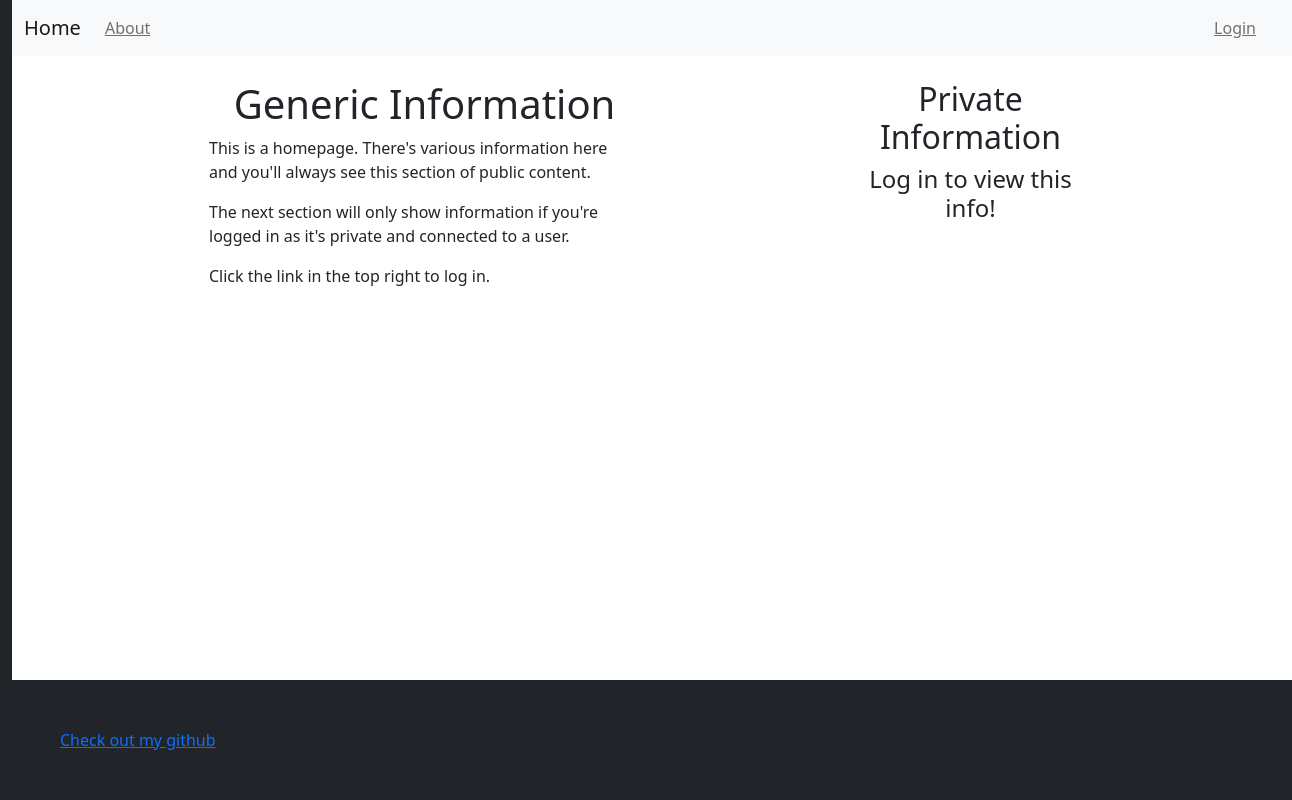
Test: React Router Navigation › navigates from root to about page
Expected: the heading "Generic Information" is shown, [209, 80, 640, 128]
Click the link "About". click: [128, 28]
box: [105, 17, 150, 39]
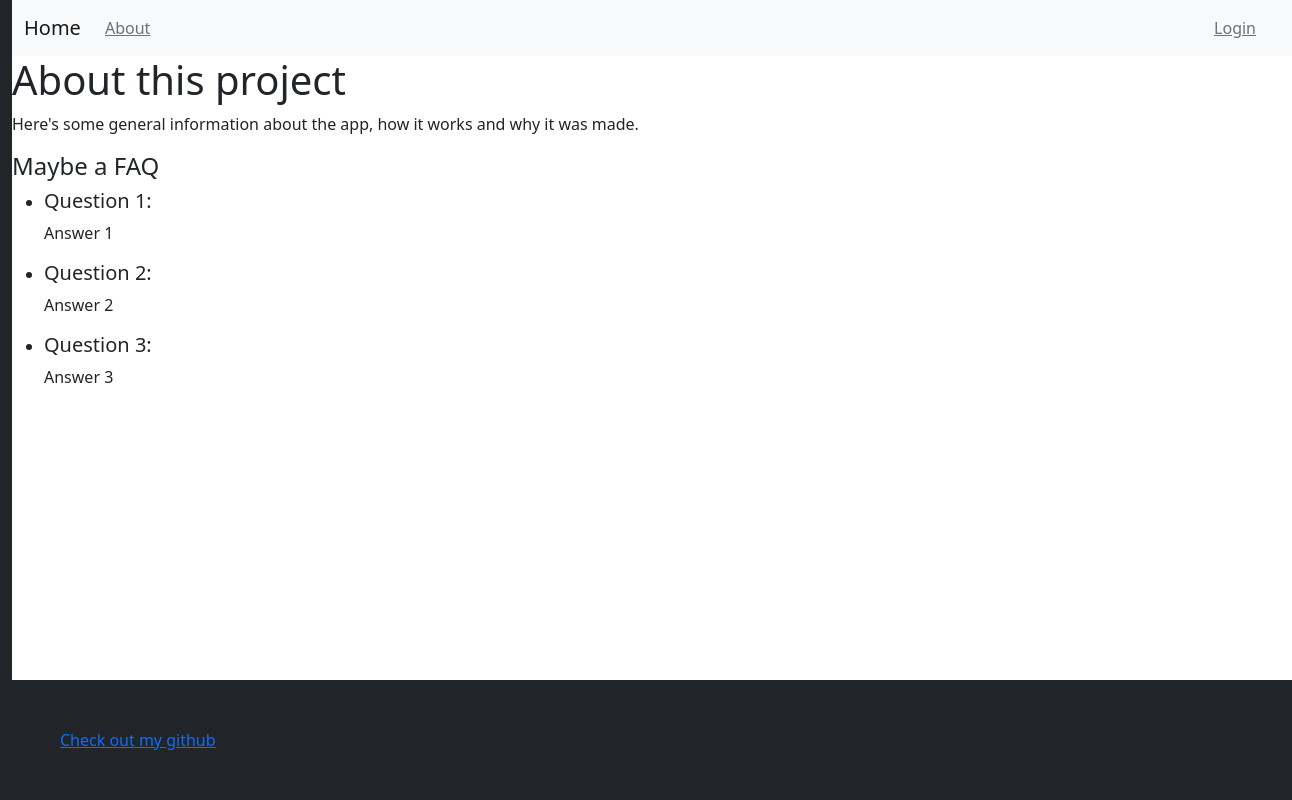
Expected: the heading "About this project" is shown, [12, 52, 346, 107]
